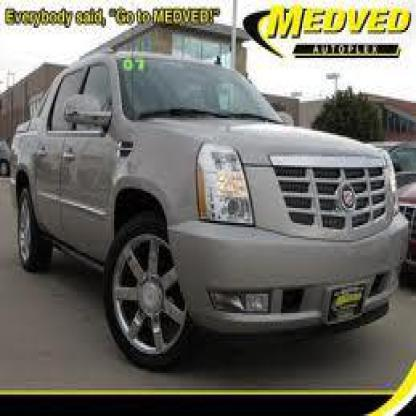Vehicle: (9, 54, 412, 375)
